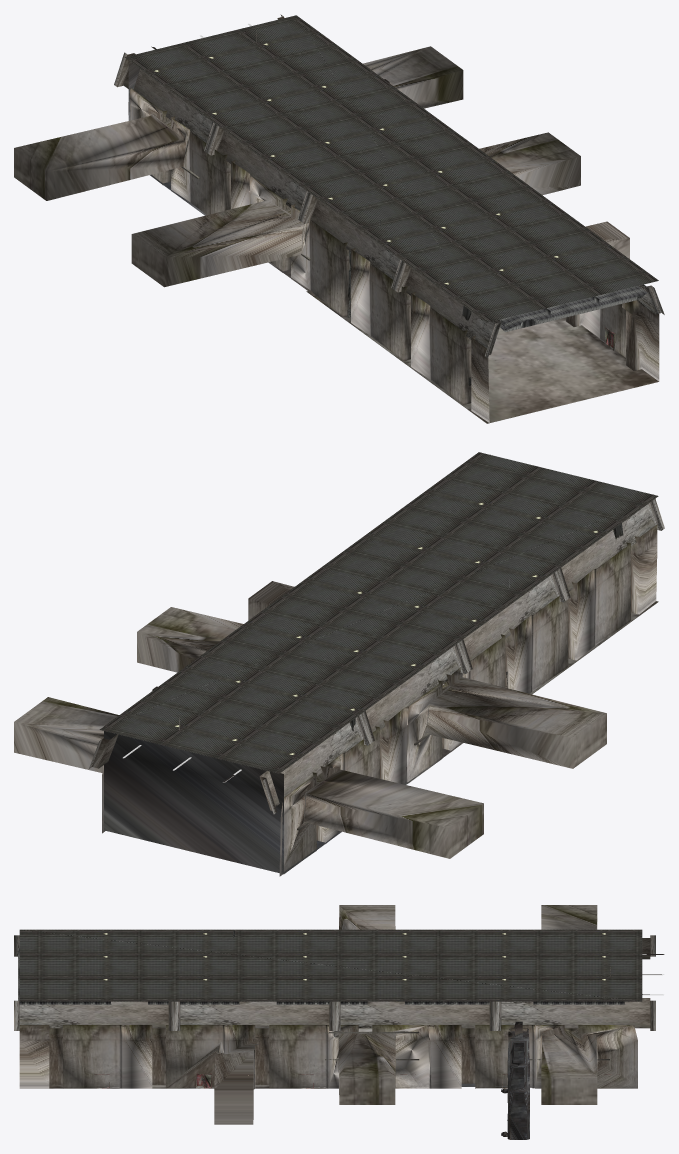
The model's file is old_factory.glb.
The picture shows the model from 3 angles, top to bottom: view 1: azimuth 30°, elevation 25°; view 2: azimuth 150°, elevation 25°; view 3: azimuth 270°, elevation 25°; orthographic projection. The views are drawn at different scales.
Visible parts, largest first — view 1: body; view 2: body; view 3: body.
Boxes of the visible parts, x1,y1,x2,y2 form: body: [14, 14, 664, 423]; body: [14, 452, 664, 876]; body: [14, 905, 664, 1139].
Size of the model in its own units: 13.96 by 5.13 by 22.
Materials: 11 (10 with a texture image).
